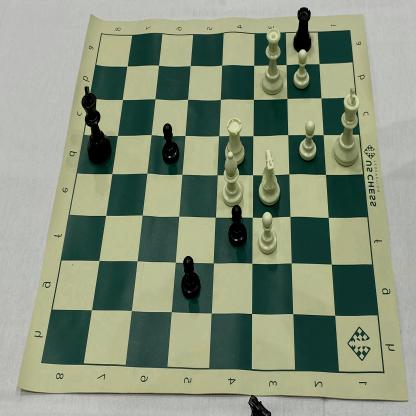black-king: (78, 83, 114, 167)
black-pawn: (178, 252, 202, 302), (226, 203, 250, 248), (159, 119, 181, 168)
black-rook: (290, 2, 316, 57)
white-bishop: (220, 147, 244, 212)
white-king: (330, 81, 363, 170)
white-knight: (256, 146, 283, 208)
white-pawn: (257, 208, 280, 258), (297, 117, 320, 165), (290, 48, 314, 92)
white-queen: (258, 24, 286, 98)
white-rook: (222, 112, 249, 169)
